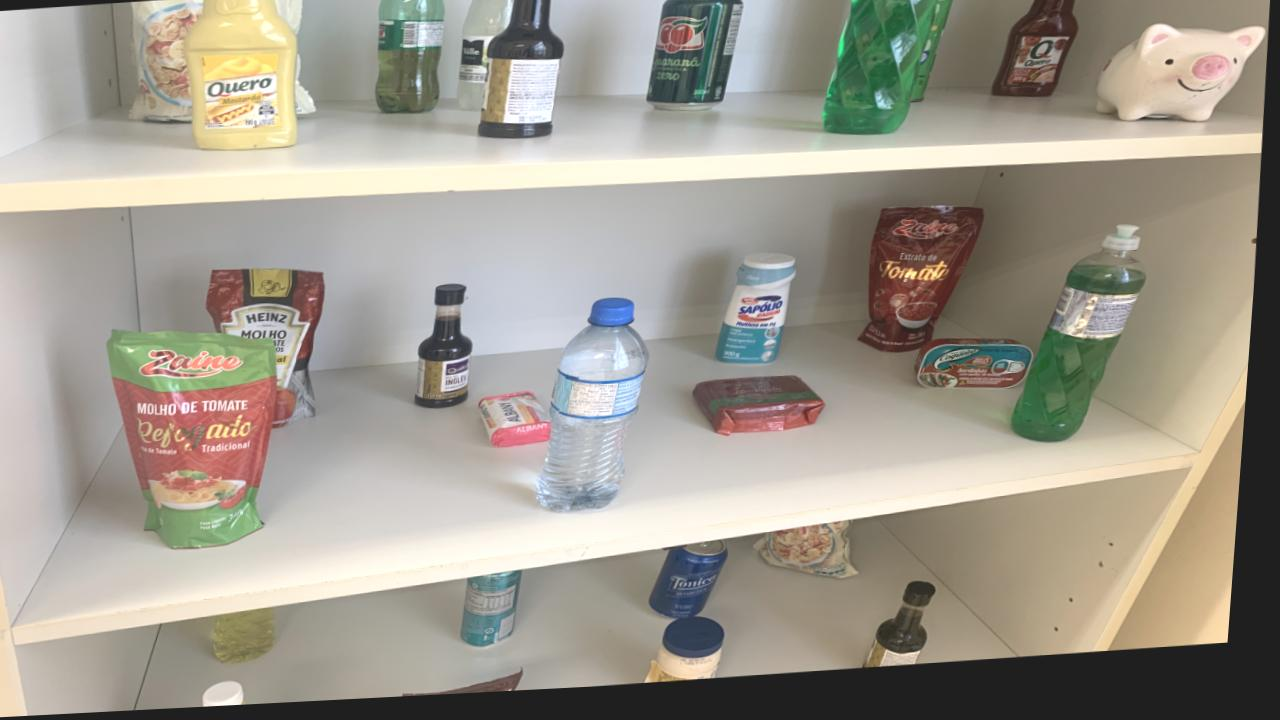Cleaner-Cleanup_Items: (723, 261, 801, 373)
Coffee-Pantry_Items: (412, 675, 535, 701)
Detergent-Cleanup_Items: (1019, 237, 1150, 454), (825, 0, 943, 145), (224, 611, 285, 666)
English_Sauce-Pantry_Items: (480, 0, 566, 144), (421, 289, 479, 414), (875, 592, 945, 678)
Flakes-Snacks: (131, 0, 203, 124), (762, 529, 869, 588), (275, 0, 303, 39), (296, 85, 316, 117)
Guarana-Drinks: (376, 0, 445, 118)
Guarana_Can-Drinks: (648, 0, 742, 118)
Guava-Snacks: (699, 384, 833, 443)
Ketchup-Pantry_Items: (993, 0, 1080, 109)
Mayonnaise-Pantry_Items: (657, 624, 736, 690)
Mustard-Pantry_Items: (186, 0, 300, 153), (214, 685, 257, 710)
Pig_Safe-Miscellaneous: (1098, 37, 1267, 134)
Soap-Cleanup_Items: (486, 397, 558, 453)
Soda-Drinks: (459, 0, 515, 116)
Tea-Drinks: (472, 576, 532, 652)
Tomato_Sauce-Pantry_Items: (112, 331, 283, 551), (211, 271, 329, 430), (865, 217, 988, 363)
Tonic-Drinks: (660, 548, 737, 627)
Tuna_Can-Pantry_Items: (922, 348, 1040, 400)
Water_Bottle-Drinks: (545, 304, 655, 518)
